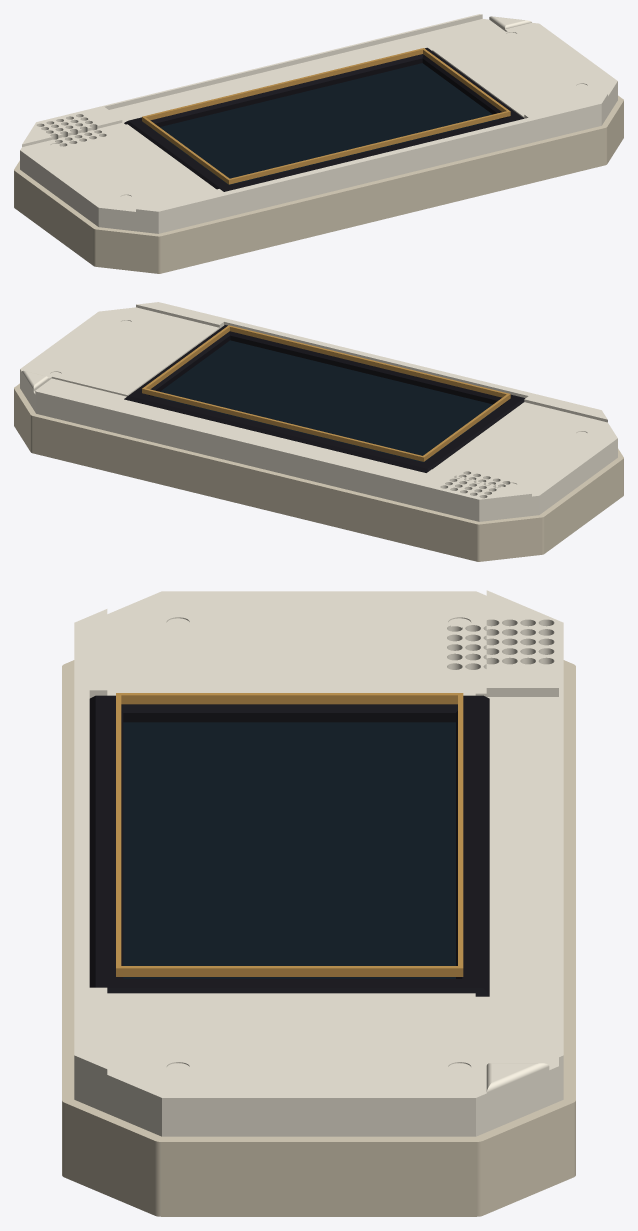
Rendered from console-a.glb.
The picture shows the model from 3 angles, top to bottom: view 1: azimuth 30°, elevation 25°; view 2: azimuth 150°, elevation 25°; view 3: azimuth 270°, elevation 25°; orthographic projection. The views are drawn at different scales.
Visible parts, largest first — view 1: Shell, SideBand, Screen, Bezel, Trim; view 2: Shell, SideBand, Screen, Bezel, Trim; view 3: Shell, Screen, SideBand, Bezel, Trim.
Boxes of the visible parts, bbox=[...] form: Shell: bbox=[20, 14, 617, 233]; SideBand: bbox=[14, 95, 623, 273]; Screen: bbox=[152, 63, 499, 185]; Bezel: bbox=[124, 47, 523, 191]; Trim: bbox=[142, 48, 510, 184]; Shell: bbox=[20, 302, 617, 521]; SideBand: bbox=[14, 383, 623, 561]; Screen: bbox=[153, 340, 499, 462]; Bezel: bbox=[124, 325, 524, 472]; Trim: bbox=[142, 325, 510, 461]; Shell: bbox=[74, 590, 563, 1136]; Screen: bbox=[123, 722, 455, 978]; SideBand: bbox=[62, 660, 575, 1216]; Bezel: bbox=[89, 695, 489, 996]; Trim: bbox=[116, 693, 463, 976].
Size of the model in its own units: 0.2 by 0.023 by 0.084.
